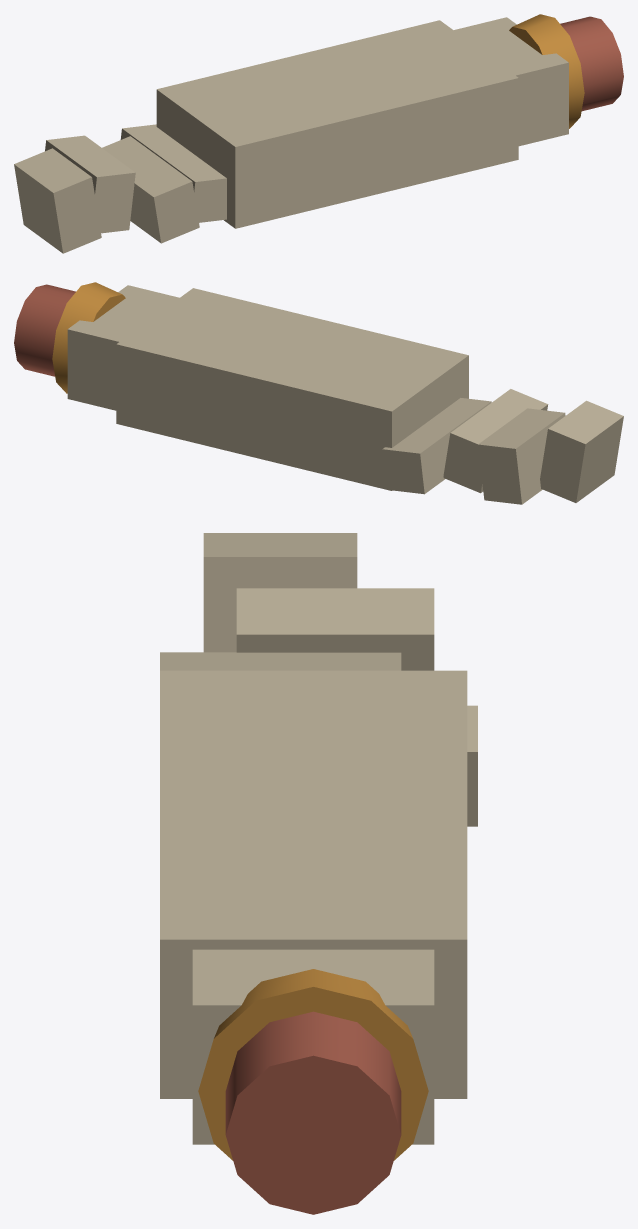
The model's file is LOC_TuypKeoCu.glb.
3 renders of one model, top to bottom at view 1: azimuth 30°, elevation 25°; view 2: azimuth 150°, elevation 25°; view 3: azimuth 270°, elevation 25°, orthographic. The views are drawn at different scales.
Visible parts, largest first — view 1: TK_Vo, TK_Vai, TK_Nep_4, TK_Nep_2, TK_Nep_3, TK_Nap, TK_Nep_1, TK_KeoKho; view 2: TK_Vo, TK_Vai, TK_Nep_4, TK_Nep_3, TK_Nep_1, TK_Nep_2, TK_Nap, TK_KeoKho; view 3: TK_Vo, TK_Nap, TK_Vai, TK_Nep_3, TK_KeoKho, TK_Nep_4, TK_Nep_2, TK_Nep_1.
Boxes of the visible parts, x1,y1,x2,y2 form: TK_Vo: (156,20,518,228); TK_Vai: (454,17,568,146); TK_Nep_4: (14,148,101,253); TK_Nep_2: (102,136,199,243); TK_Nep_3: (45,135,135,233); TK_Nap: (560,16,623,111); TK_Nep_1: (120,124,226,222); TK_KeoKho: (509,14,584,128); TK_Vo: (116,288,468,490); TK_Vai: (67,285,179,410); TK_Nep_4: (540,400,623,502); TK_Nep_3: (478,408,565,504); TK_Nep_1: (382,398,491,494); TK_Nep_2: (443,389,548,493); TK_Nap: (14,284,75,376); TK_KeoKho: (52,282,125,393); TK_Vo: (160,670,467,1098); TK_Nap: (225,1011,401,1214); TK_Vai: (192,949,434,1144); TK_Nep_3: (236,588,434,670); TK_KeoKho: (198,969,428,1160); TK_Nep_4: (203,533,357,652); TK_Nep_2: (160,652,401,670); TK_Nep_1: (467,705,477,826).
Size of the model in its own units: 0.1179 by 0.021 by 0.029.
